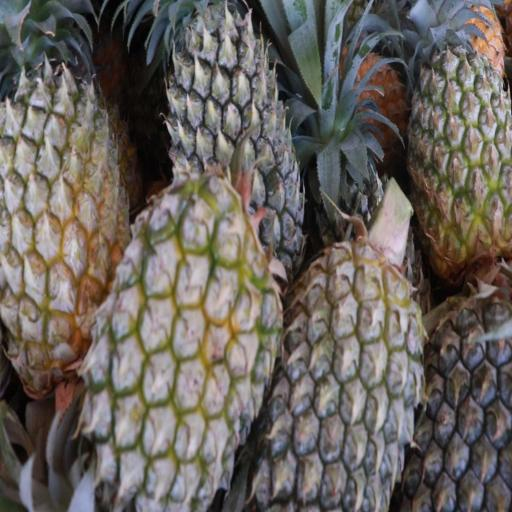------------------------------: (94, 179, 276, 503), (4, 0, 124, 374), (408, 17, 512, 257)
